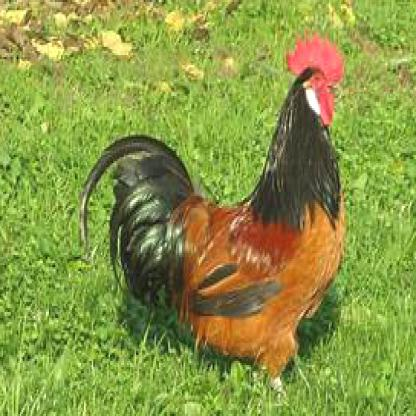chicken: (80, 29, 341, 382)
